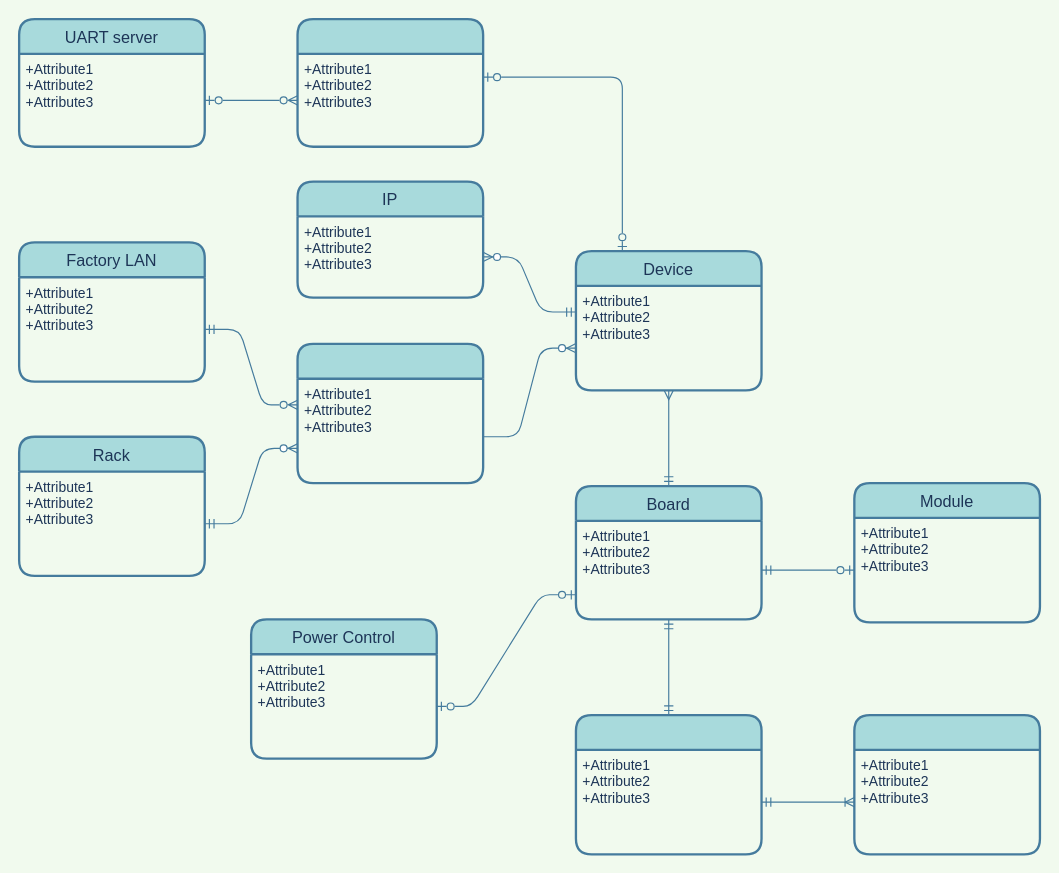
The diagram is 1059 pixels wide and 873 high, and some of its shapes have lost their labels. Each missing label, with the box of its shape:
Backplane Slot: (296, 342, 484, 484)
Board Type: (574, 713, 762, 855)
Board type devices: (853, 713, 1041, 855)
UART: (296, 17, 484, 147)
